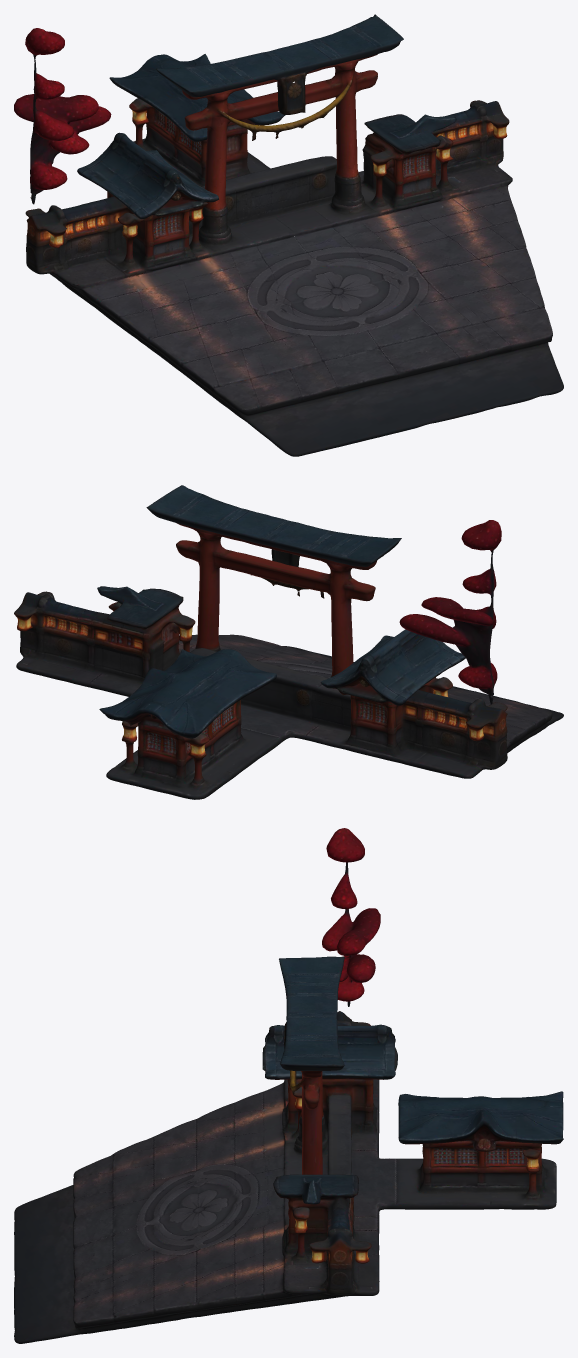
File: torii gate 3d model.glb
3 renders of one model, top to bottom at view 1: azimuth 30°, elevation 25°; view 2: azimuth 150°, elevation 25°; view 3: azimuth 270°, elevation 25°, orthographic. The views are drawn at different scales.
Visible parts, largest first — view 1: tripo_node_ddfb828c; view 2: tripo_node_ddfb828c; view 3: tripo_node_ddfb828c.
Boxes of the visible parts, x1,y1,x2,y2 form: tripo_node_ddfb828c: (14, 14, 563, 456); tripo_node_ddfb828c: (14, 485, 563, 799); tripo_node_ddfb828c: (14, 828, 563, 1343).
Bounding box in the file's own units: 97.5 × 66.01 × 97.54.
Materials: 1 (1 with a texture image).
